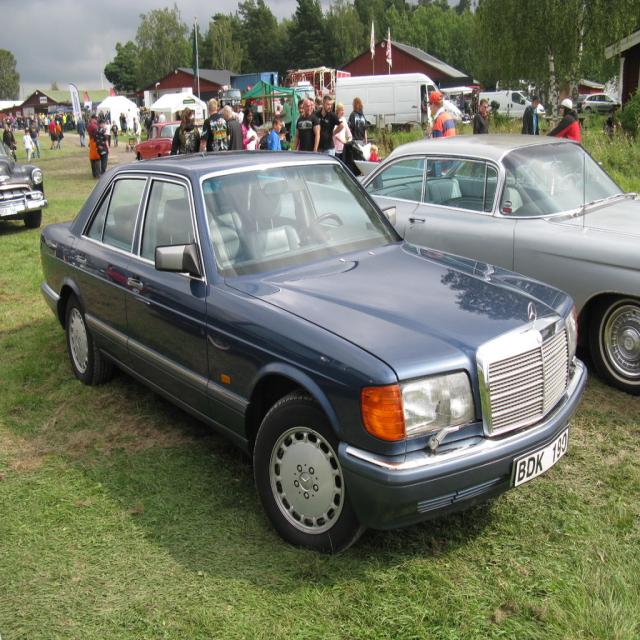car: (37, 150, 587, 557)
